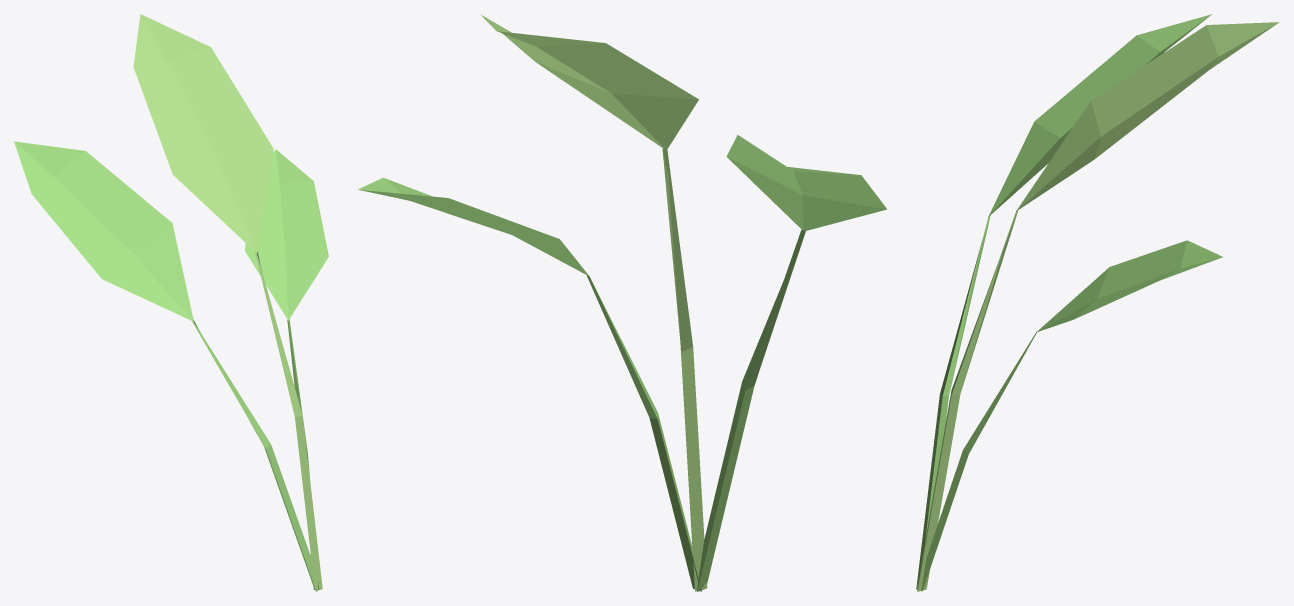
File: Plant_j_OneS_03.fbx
3 views of the same model, side by side, from view 1: azimuth 30°, elevation 25°; view 2: azimuth 150°, elevation 25°; view 3: azimuth 270°, elevation 25° (orthographic). The views are drawn at different scales.
Visible parts, largest first — view 1: Plant_j_OneS_03; view 2: Plant_j_OneS_03; view 3: Plant_j_OneS_03.
Part boxes in pixels (<box>): Plant_j_OneS_03: <box>14,14,328,591</box>; Plant_j_OneS_03: <box>358,14,887,591</box>; Plant_j_OneS_03: <box>916,14,1279,591</box>.
Bounding box in the file's own units: 0.3806 × 0.5858 × 0.3485.
